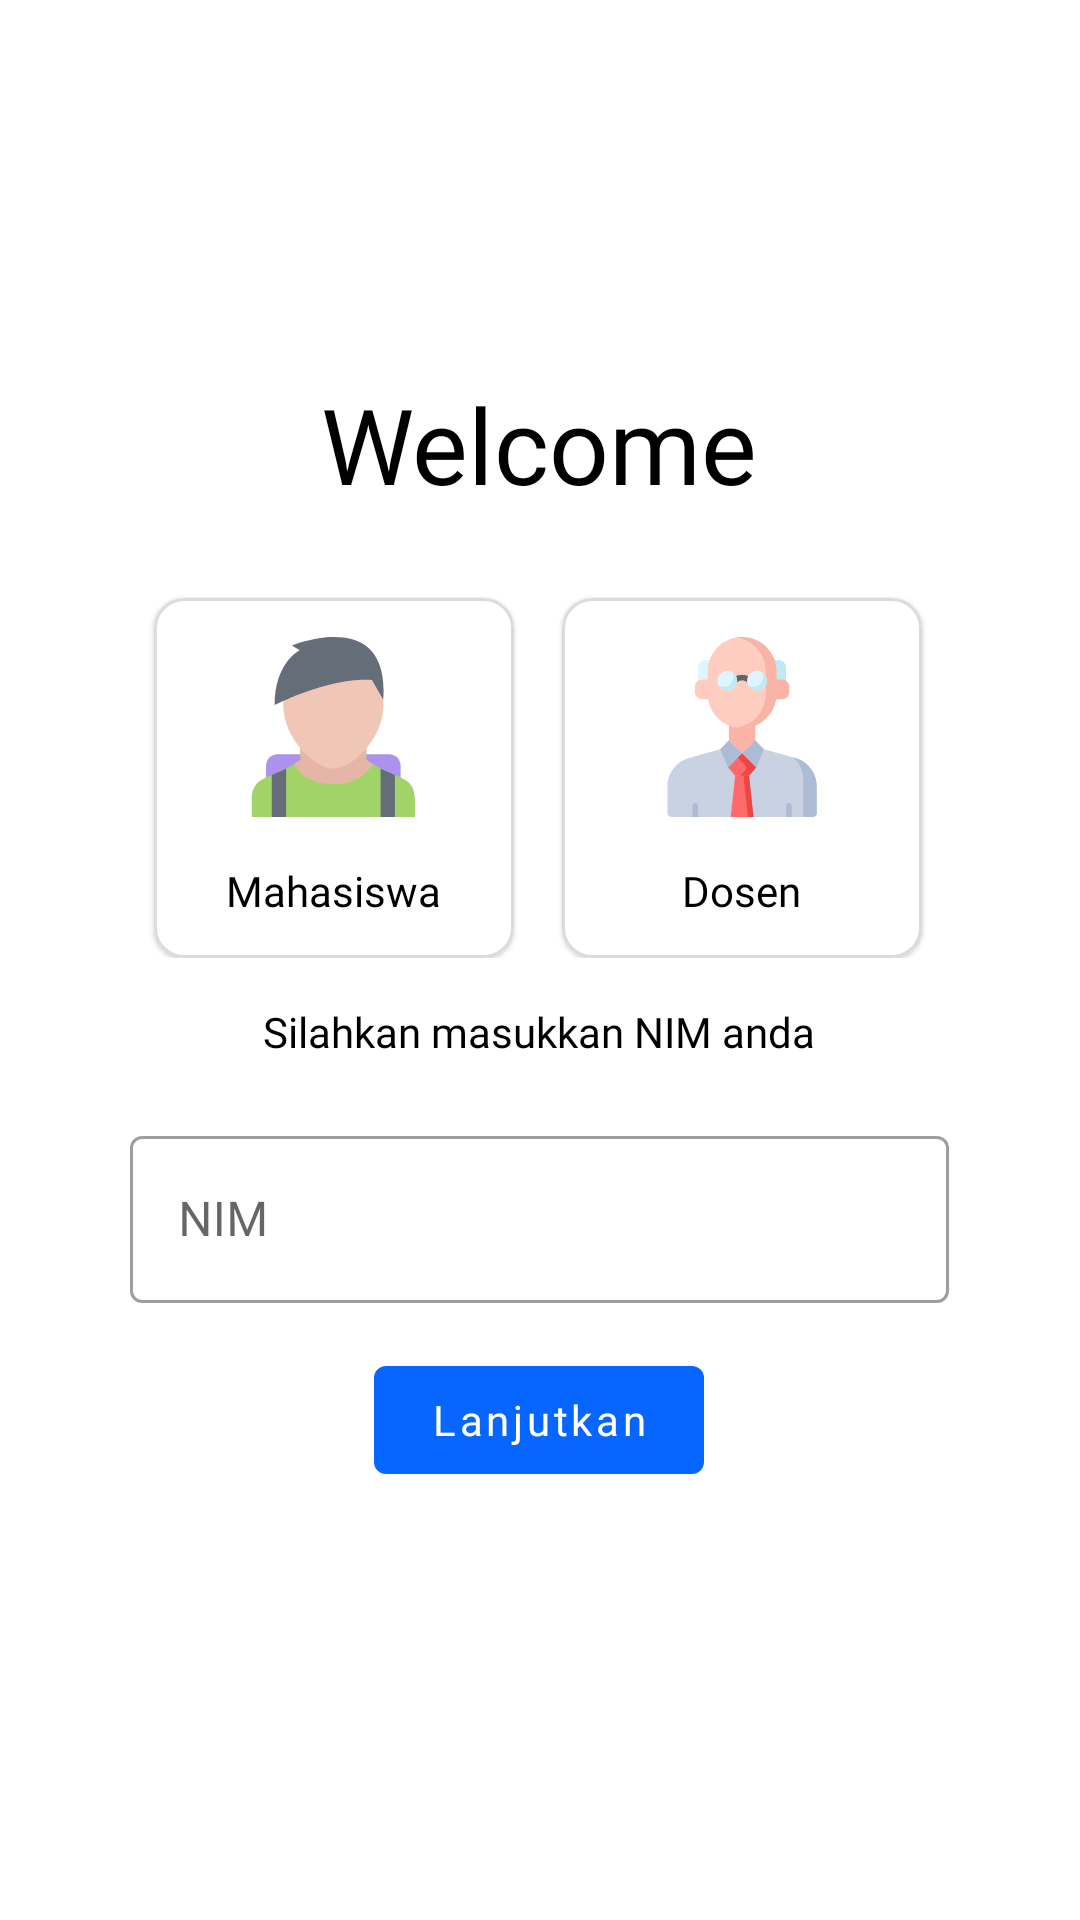

Screen size 1080w x 1920h. Icon name, then its box in pixels as (x1=x1, y1=y1, x2=x2, y2=y2):
backpack: (x1=251, y1=637, x2=415, y2=817)
teacher: (x1=667, y1=637, x2=817, y2=817)
